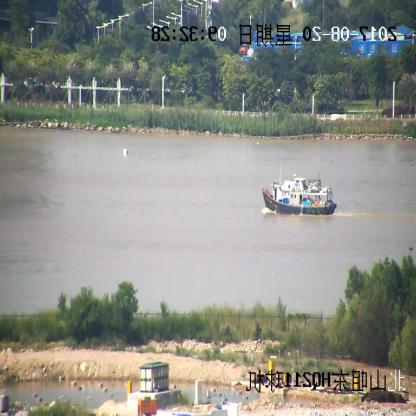Fishing Boat: (262, 176, 338, 215)
